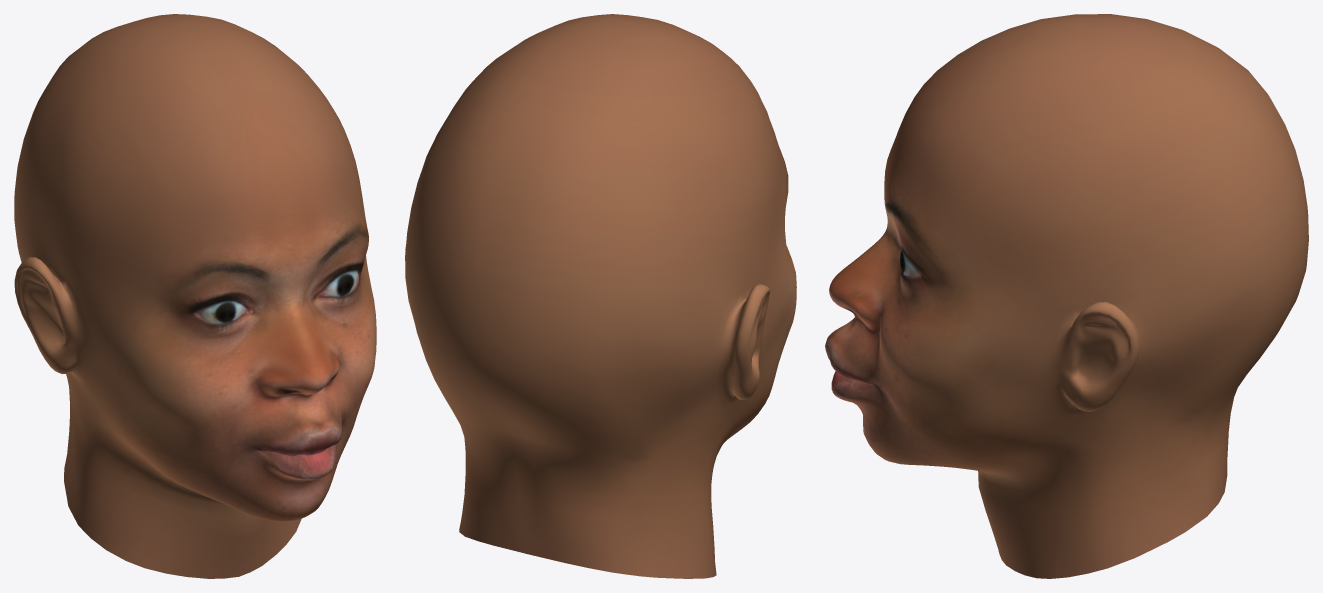
Rendered from v332_obj_ExpressionKiss.obj.
3 renders of one model, left to right at view 1: azimuth 30°, elevation 25°; view 2: azimuth 150°, elevation 25°; view 3: azimuth 270°, elevation 25°, orthographic. The views are drawn at different scales.
Visible parts, largest first — view 1: HeadHires; view 2: HeadHires; view 3: HeadHires.
Boxes of the visible parts, x1=… form: HeadHires: x1=14, y1=14, x2=376, y2=578; HeadHires: x1=405, y1=14, x2=796, y2=578; HeadHires: x1=825, y1=14, x2=1308, y2=578.
Bounding box in the file's own units: 187 × 282 × 235.
